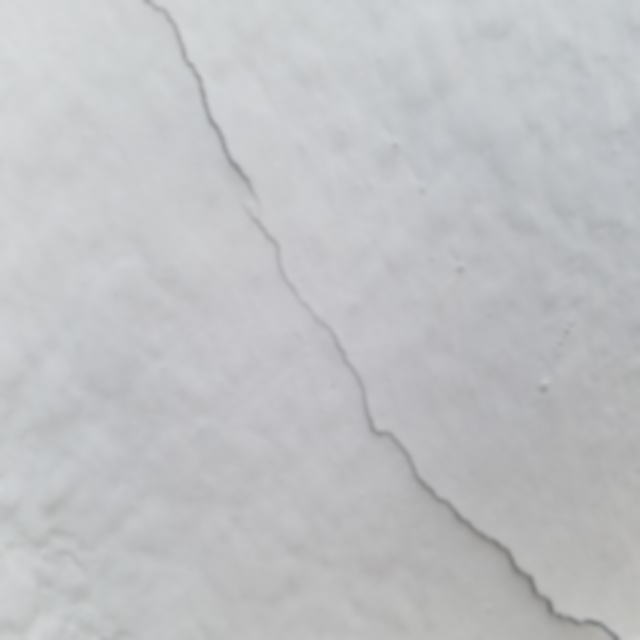SurfaceCrack: (45, 0, 638, 639)
